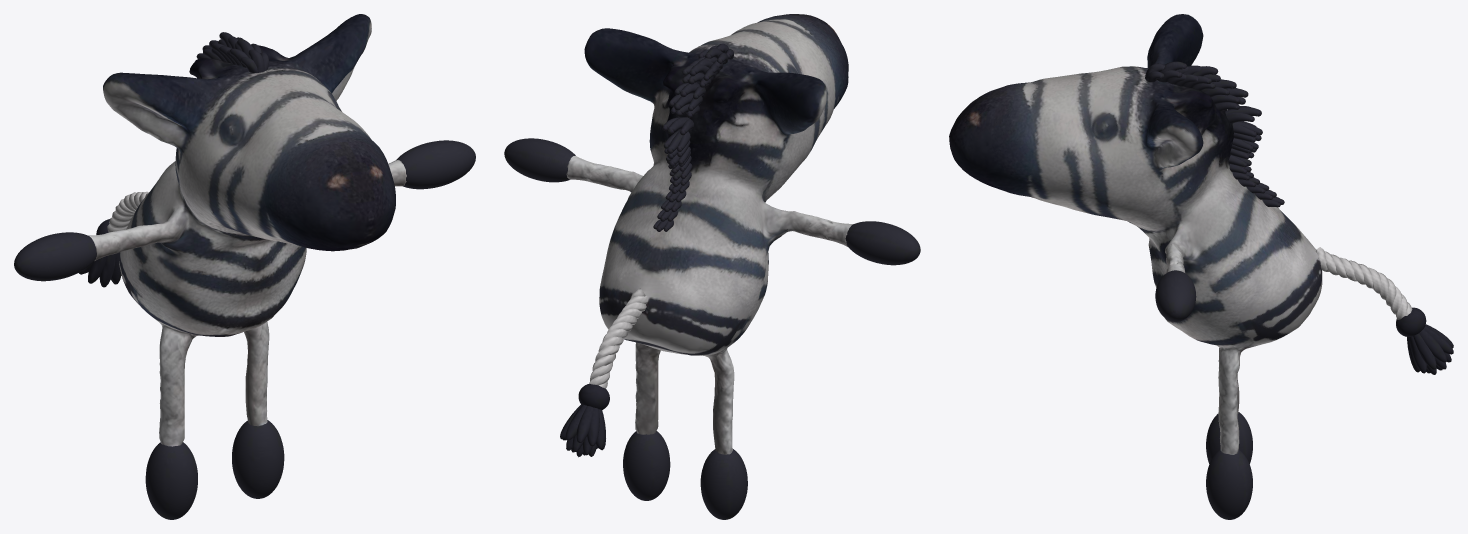
File: marty-tpose.fbx
3 views of the same model, side by side, from view 1: azimuth 30°, elevation 25°; view 2: azimuth 150°, elevation 25°; view 3: azimuth 270°, elevation 25° (orthographic). The views are drawn at different scales.
Parts seen in each view (by area): view 1: Marty; view 2: Marty; view 3: Marty.
Part boxes in pixels (x1,y1,x2,y2): Marty: (14, 14, 475, 519); Marty: (504, 14, 920, 519); Marty: (949, 14, 1453, 519).
Size of the model in its own units: 0.5098 by 0.5188 by 0.5419.
Materials: 1 (1 with a texture image).
